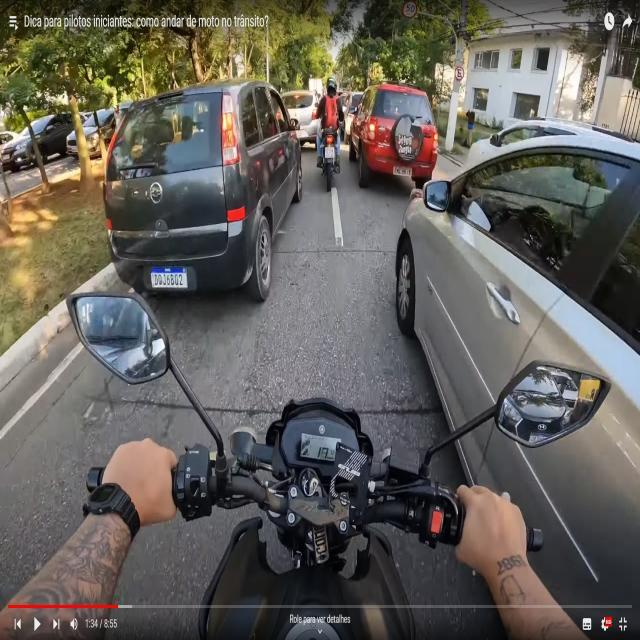Placa_mercosul_carro: (151, 267, 187, 288)
